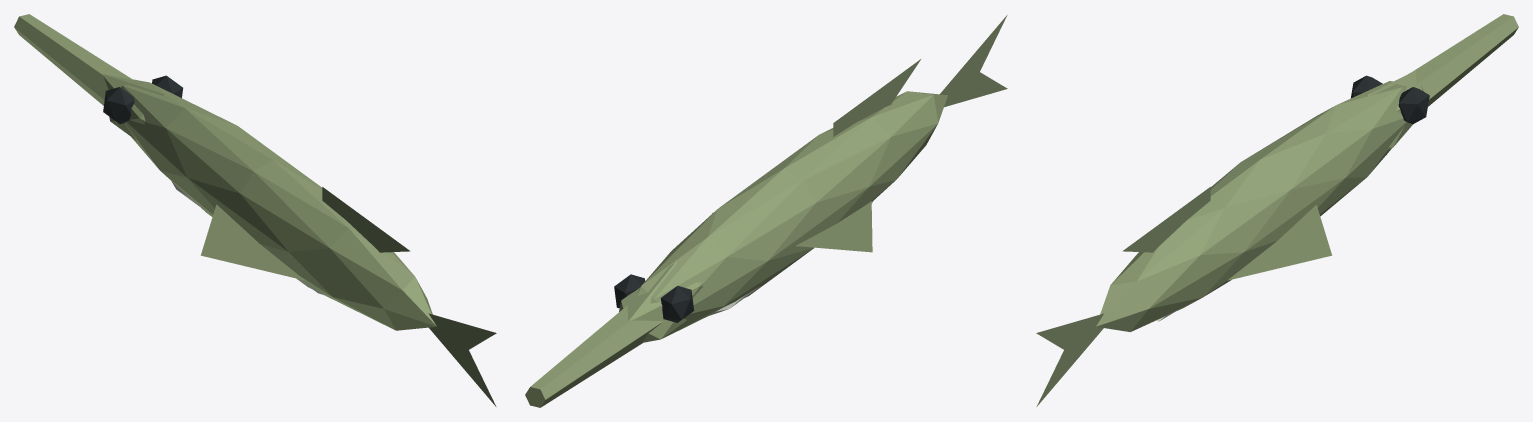
Rendered from Gar.fbx.
3 renders of one model, left to right at view 1: azimuth 30°, elevation 25°; view 2: azimuth 150°, elevation 25°; view 3: azimuth 330°, elevation 25°, orthographic.
Visible parts, largest first — view 1: Body, Snout, Pectoral1, TailFin, DorsalFin, Eye1, Head; view 2: Body, Snout, TailFin, Pectoral1, Head, DorsalFin, Eye1, Eye-1; view 3: Body, Snout, Pectoral-1, TailFin, DorsalFin, Eye-1, Head.
Part boxes in pixels (<box>): Body: <box>121,82,436,330</box>; Snout: <box>14,14,133,105</box>; Pectoral1: <box>200,204,306,280</box>; TailFin: <box>428,313,496,406</box>; DorsalFin: <box>322,187,410,252</box>; Eye1: <box>103,87,134,123</box>; Head: <box>103,74,165,140</box>; Body: <box>637,91,947,338</box>; Snout: <box>525,306,663,407</box>; TailFin: <box>939,15,1007,107</box>; Pectoral1: <box>796,201,872,252</box>; Head: <box>619,261,703,342</box>; DorsalFin: <box>833,59,920,136</box>; Eye1: <box>660,285,694,322</box>; Eye-1: <box>614,274,645,308</box>; Body: <box>1096,81,1408,332</box>; Snout: <box>1412,14,1518,105</box>; Pectoral-1: <box>1227,205,1332,280</box>; TailFin: <box>1036,313,1104,406</box>; DorsalFin: <box>1122,187,1210,252</box>; Eye-1: <box>1398,87,1429,123</box>; Head: <box>1367,70,1428,149</box>.
Size of the model in its own units: 0.198 by 0.121 by 1.01.
